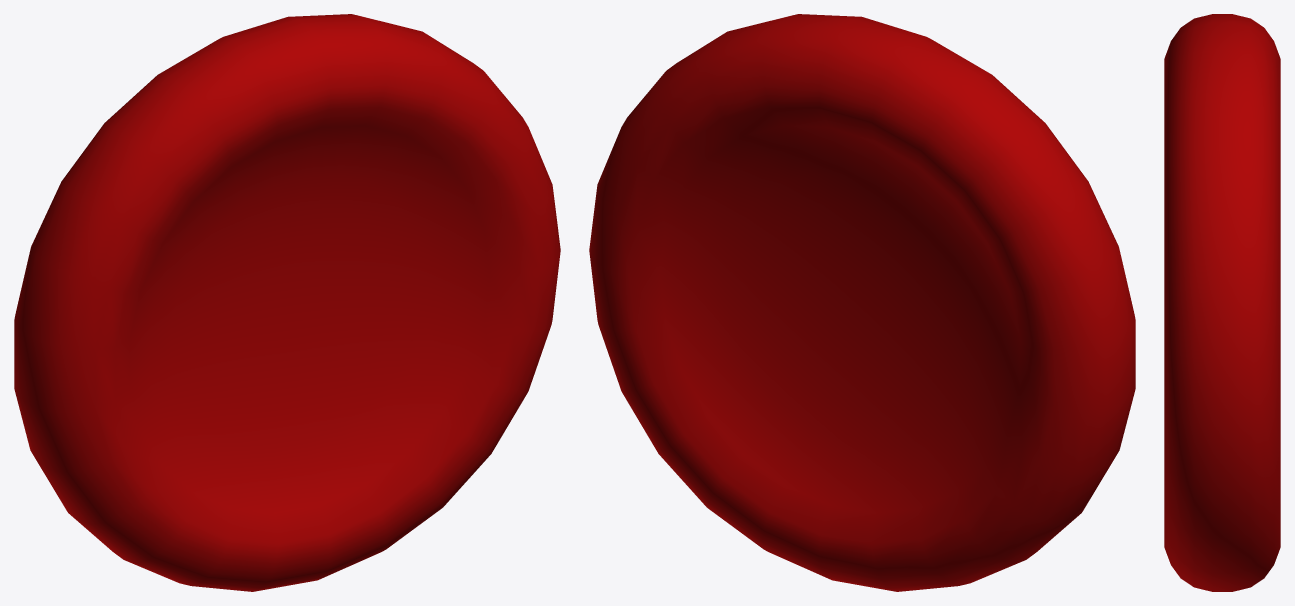
Rendered from RedBloodCell.fbx.
The picture shows the model from 3 angles, left to right: view 1: azimuth 30°, elevation 25°; view 2: azimuth 150°, elevation 25°; view 3: azimuth 270°, elevation 25°; orthographic projection. The views are drawn at different scales.
Parts seen in each view (by area): view 1: Sphere; view 2: Sphere; view 3: Sphere.
Boxes of the visible parts, x1,y1,x2,y2 form: Sphere: (14,14,560,591); Sphere: (589,14,1135,591); Sphere: (1164,14,1280,591).
Size of the model in its own units: 1.95 by 1.95 by 0.3927.
